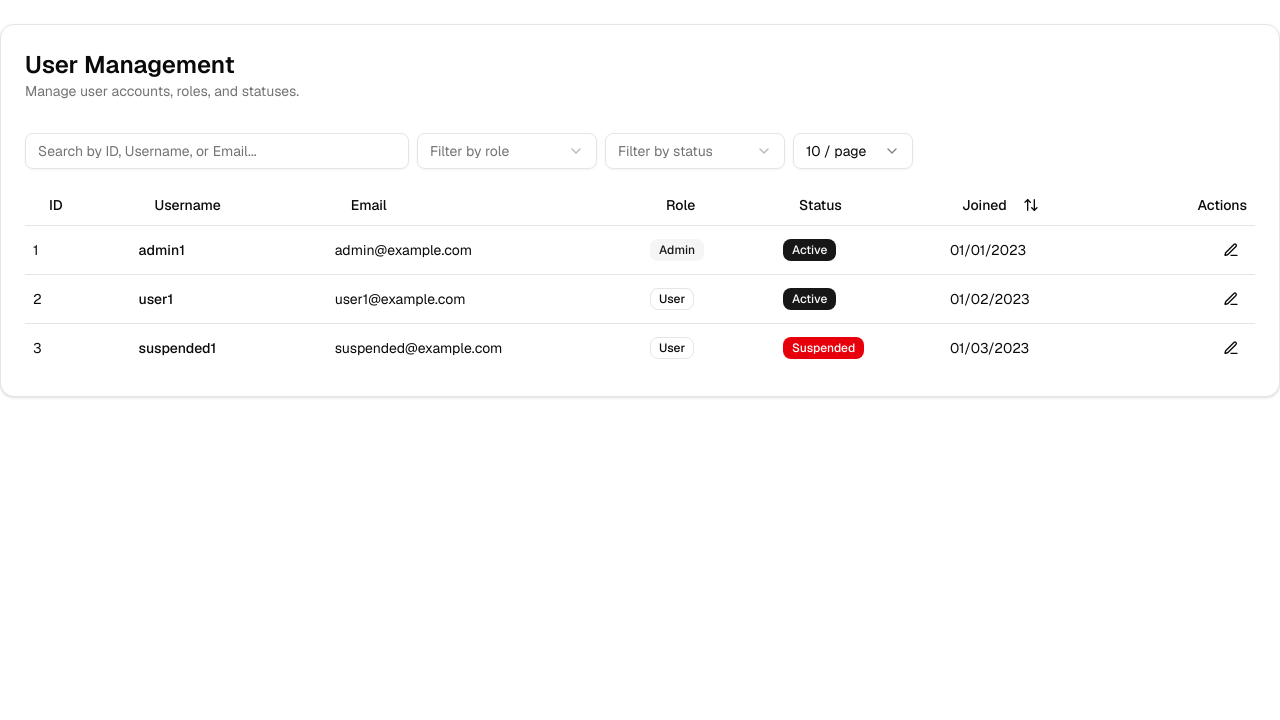
Test case: UserManagement Component › shows deactivation confirmation dialog when deactivate option is clicked
Note: Click on the edit button dropdown for a user
Click the button named "open menu" in the row of "admin1" at (1231, 250), box 1215,234 -> 1247,266
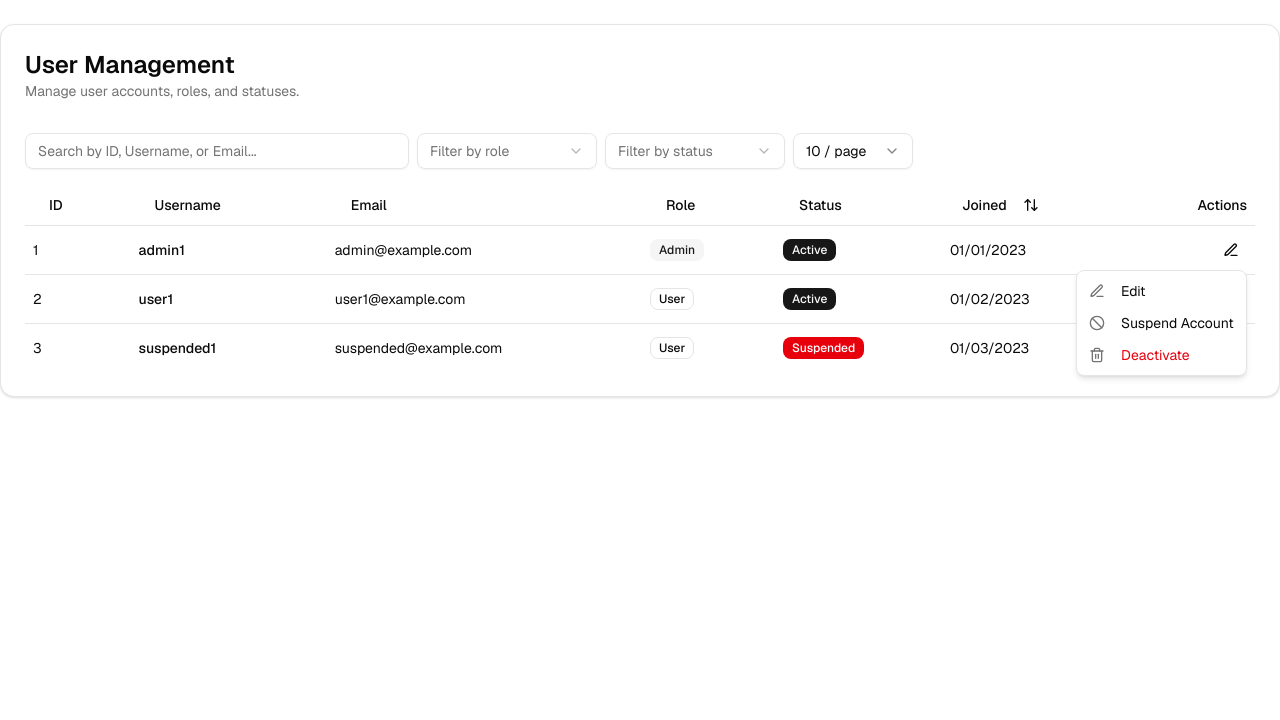
Note: Click on the Deactivate option
Click the menu item "Deactivate" at (1139, 355), box 1089,346 -> 1190,364
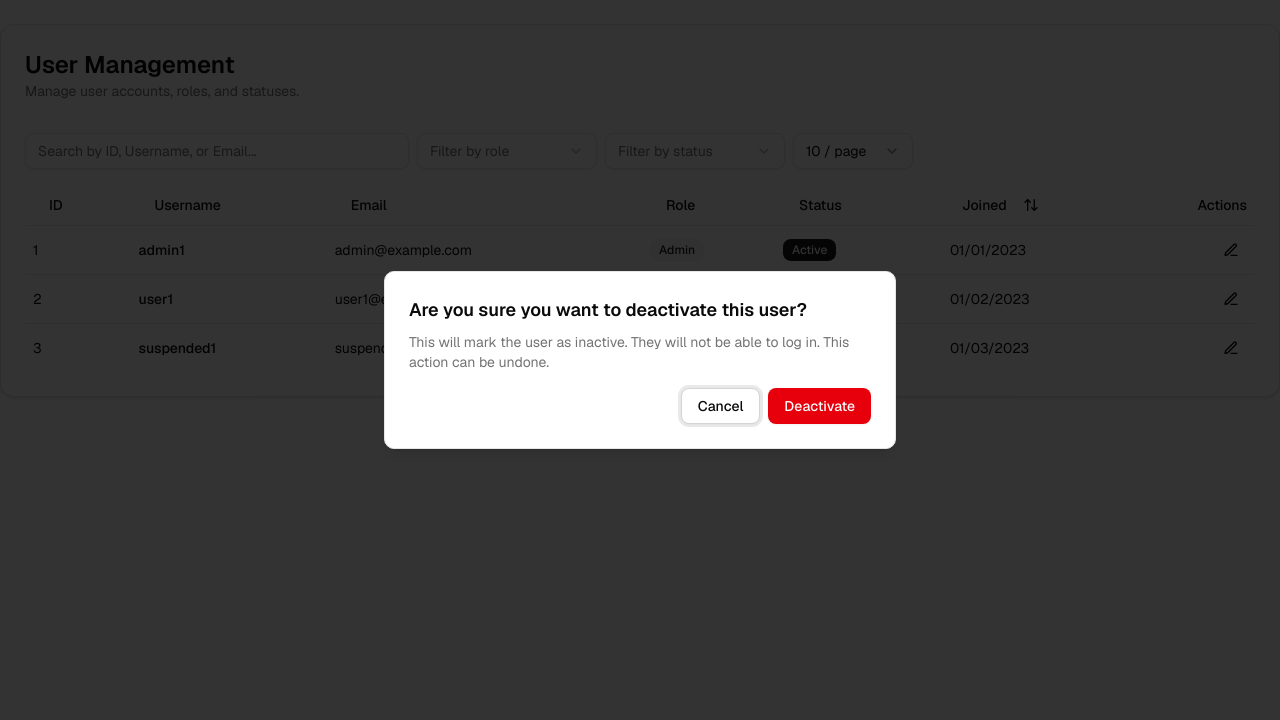
Now the heading "Are you sure you want to deactivate this user?" is shown, box 409,296 -> 871,324
